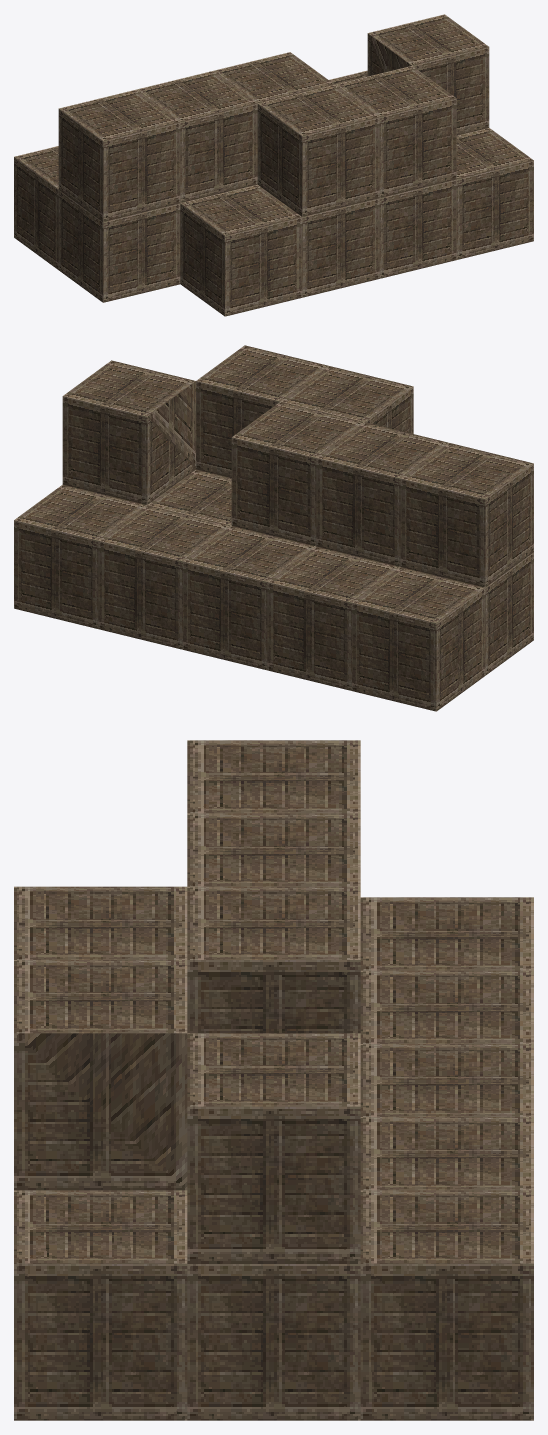
The model's file is WCRATE3.glb.
3 renders of one model, top to bottom at view 1: azimuth 30°, elevation 25°; view 2: azimuth 150°, elevation 25°; view 3: azimuth 270°, elevation 25°, orthographic. The views are drawn at different scales.
Parts seen in each view (by area): view 1: _WCRATE3; view 2: _WCRATE3; view 3: _WCRATE3.
Part boxes in pixels (bbox=[...]): _WCRATE3: bbox=[14, 14, 533, 316]; _WCRATE3: bbox=[14, 345, 533, 711]; _WCRATE3: bbox=[14, 740, 533, 1420].
Size of the model in its own units: 4.23 by 1.69 by 2.54.
Materials: 1 (1 with a texture image).
